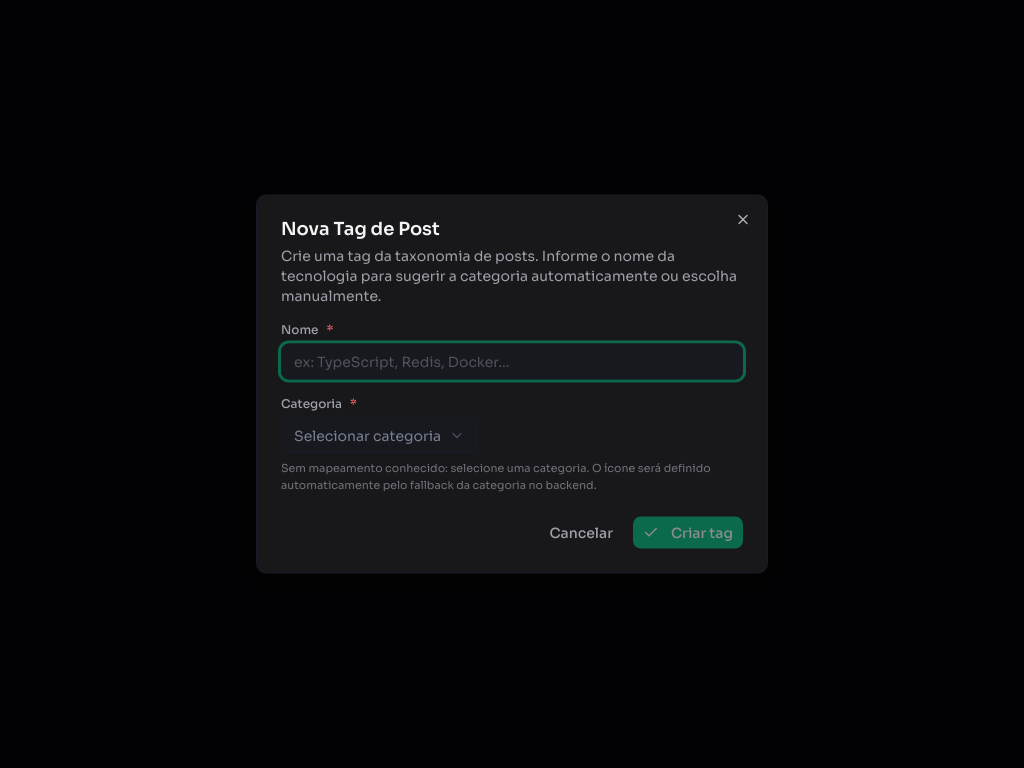
Test case: CreateTagDialogForm — name-first flow › auto-detected category label correct — TypeScript → Linguagem
The width and height of the screenshot is (1024, 768).
Type "TypeScript" into the field labelled "Nome *".
click(512, 362); type("TypeScript")  # box [281,344,743,380]
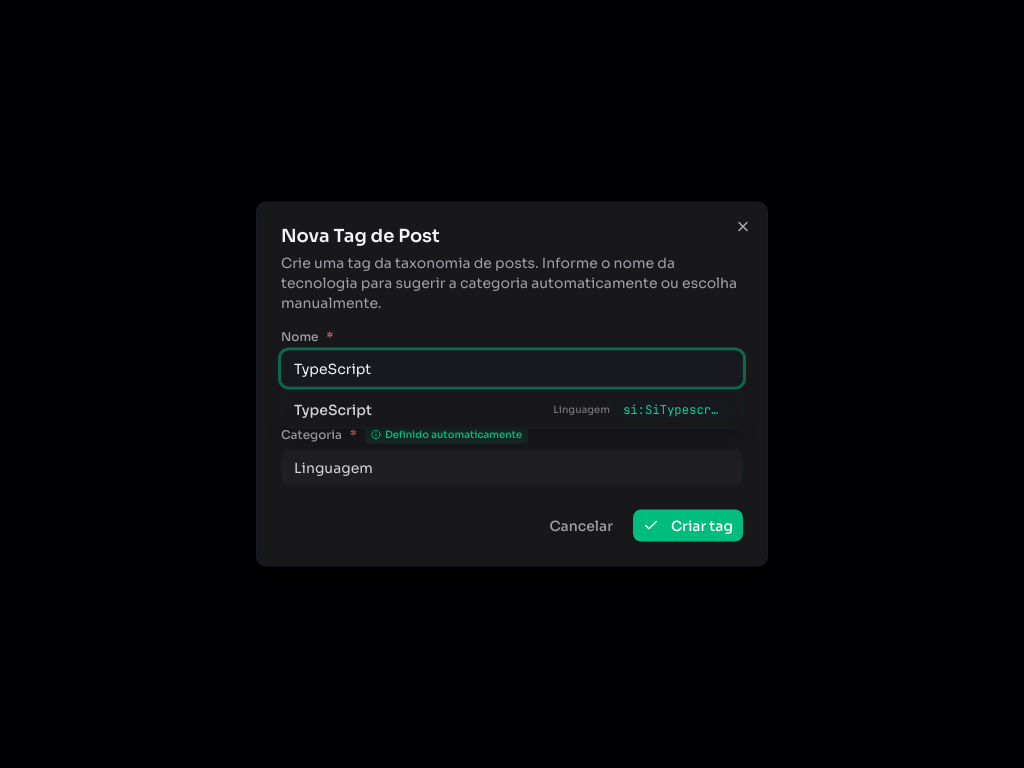
Expected: the text "Definido automaticamente" is shown, [365,424,528,444]
Now the text named "Categoria definida automaticamente" reads "Linguagem", box [294,458,373,476]
